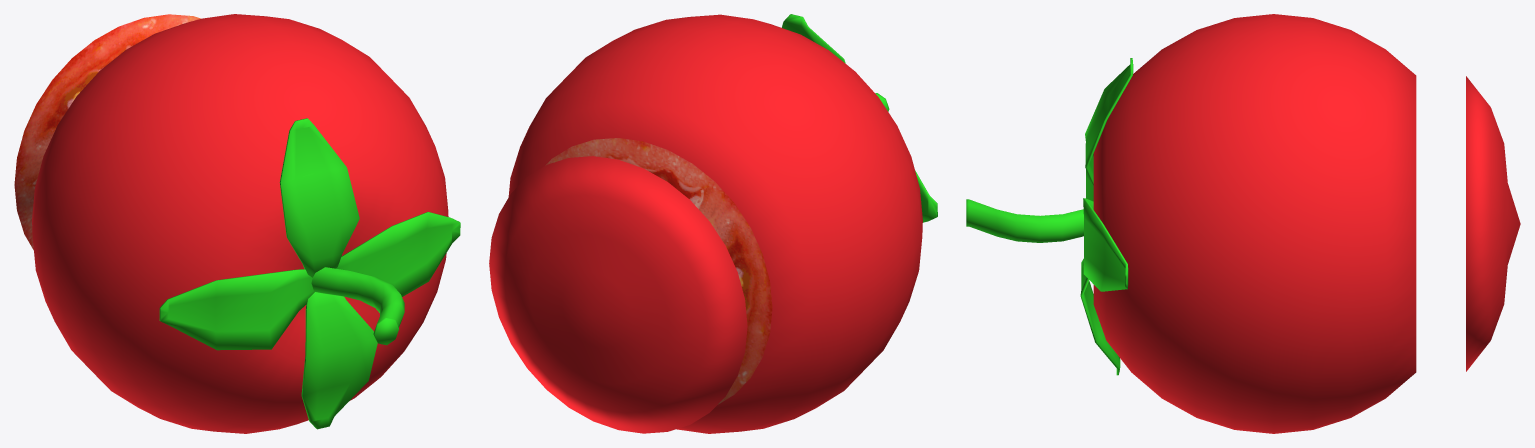
The model's file is tomat 1.fbx.
The picture shows the model from 3 angles, left to right: view 1: azimuth 30°, elevation 25°; view 2: azimuth 150°, elevation 25°; view 3: azimuth 270°, elevation 25°; orthographic projection.
Parts seen in each view (by area): view 1: tomat, potongan; view 2: tomat, potongan; view 3: tomat, potongan.
Boxes of the visible parts, <box> form: tomat: <box>32,14,460,433</box>; potongan: <box>14,14,200,250</box>; tomat: <box>508,14,937,433</box>; potongan: <box>489,156,747,433</box>; tomat: <box>966,14,1416,433</box>; potongan: <box>1466,76,1520,371</box>.
Bounding box in the file's own units: 99.6 × 99.6 × 131.
3 materials, 1 textured.
